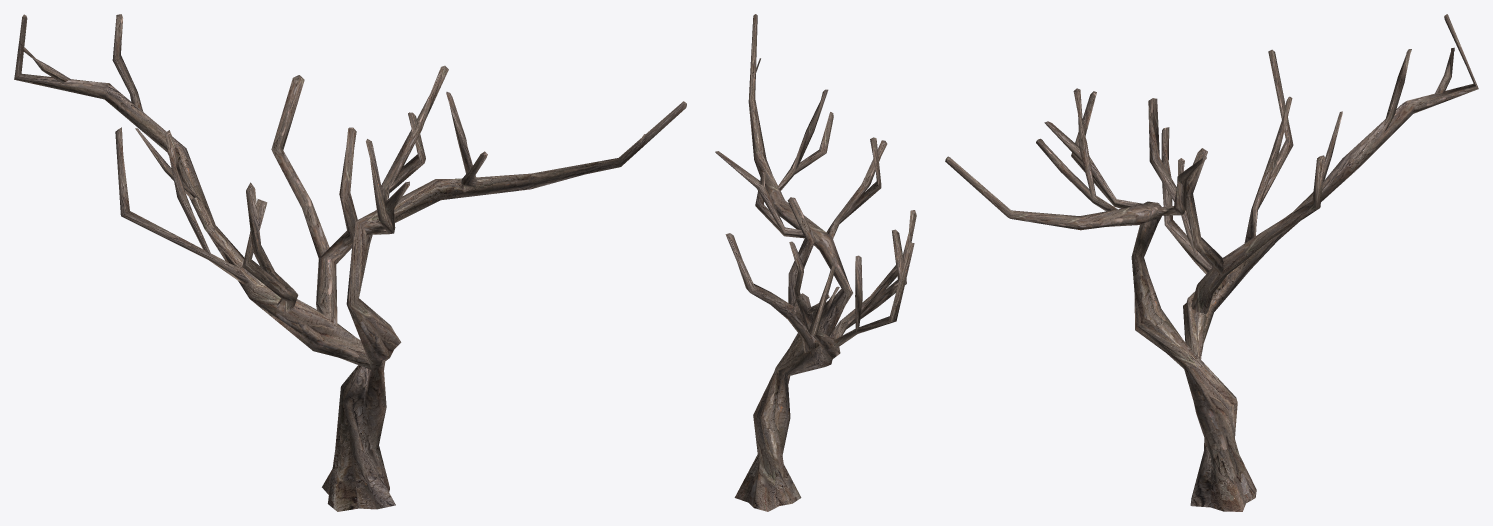
File: trunk.glb
The picture shows the model from 3 angles, left to right: view 1: azimuth 30°, elevation 25°; view 2: azimuth 150°, elevation 25°; view 3: azimuth 270°, elevation 25°; orthographic projection. The views are drawn at different scales.
Visible parts, largest first — view 1: trunk; view 2: trunk; view 3: trunk.
Boxes of the visible parts, bbox=[...] form: trunk: bbox=[14, 14, 686, 511]; trunk: bbox=[715, 14, 916, 511]; trunk: bbox=[945, 14, 1478, 511].
Size of what is drawn, in the model's own units: 6.3 by 7.24 by 8.43.
Materials: 1 (1 with a texture image).
